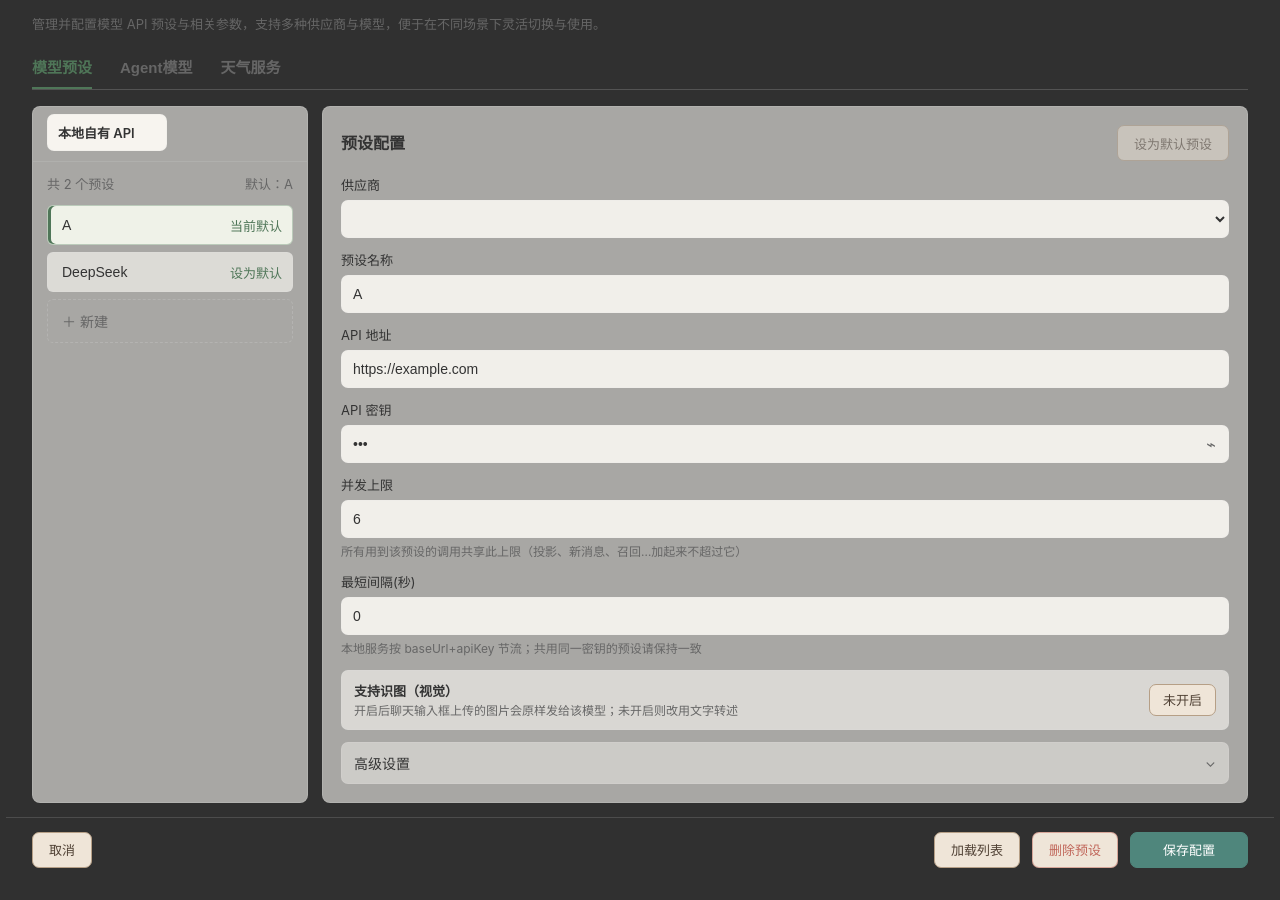
Test: AppApiConfigSection › 模型用途渲染书童/校书/执笔/掌阁四行+编目展示行
(page scrolled)
Click the button with class "api-config-tab" showing "Agent模型" at (156,67), box [120,44,192,89]
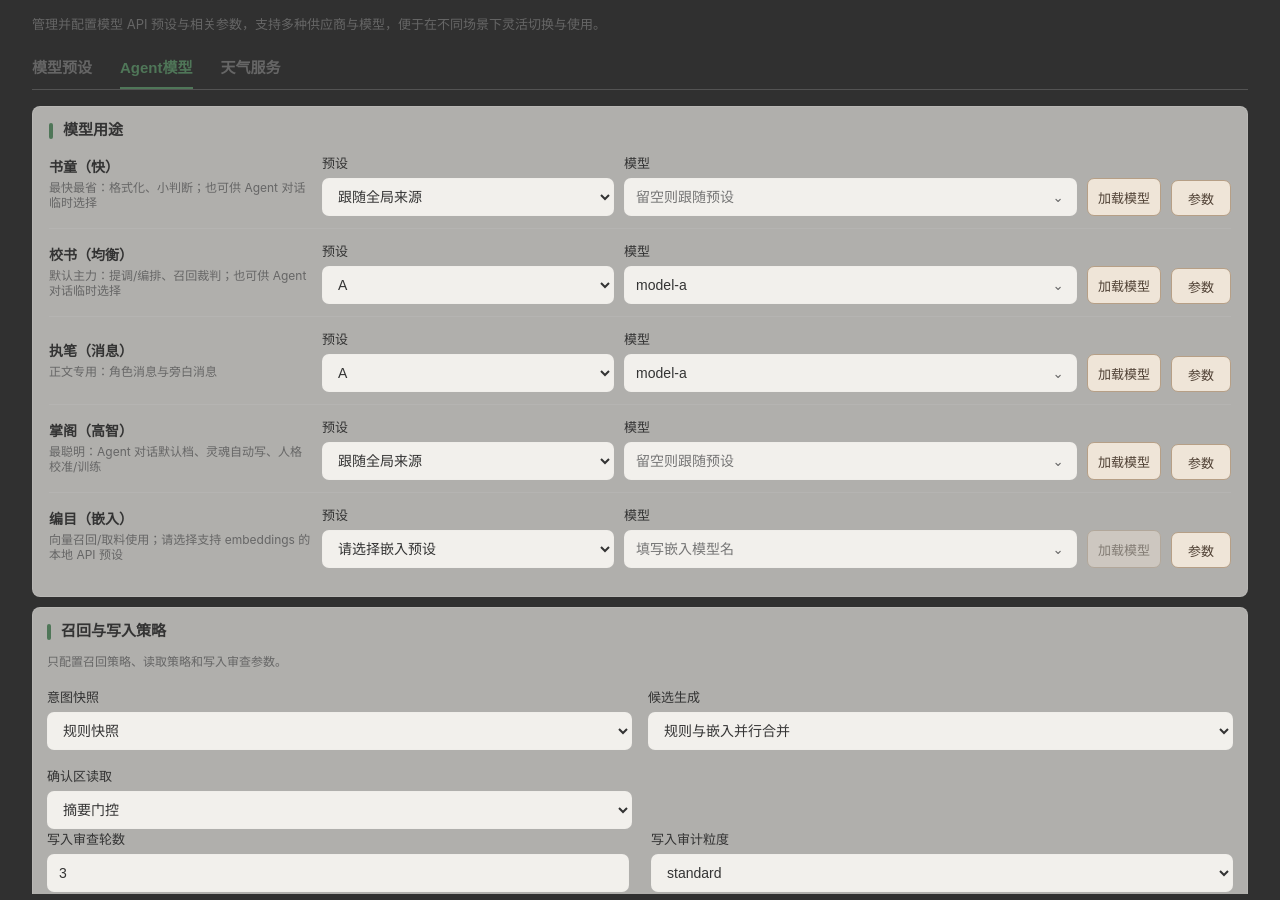
Expected: the element with class "agent-review-card" that starts with "模型用途" is shown, [32,106,1248,597]
